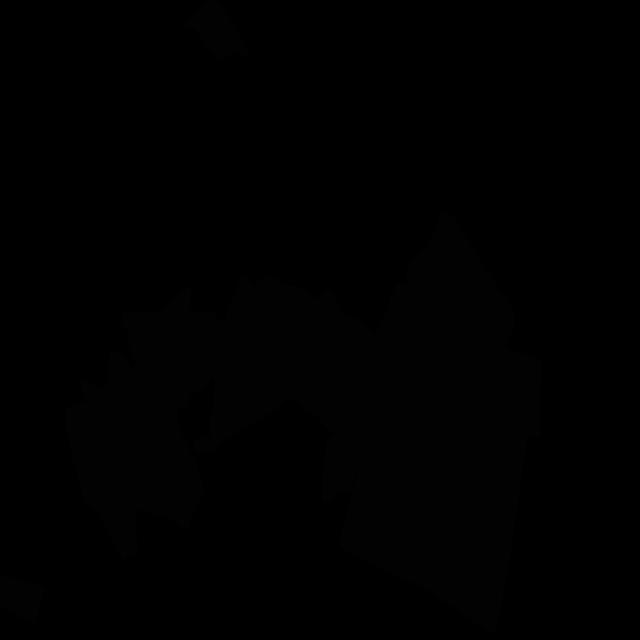cardboard: (339, 210, 542, 633), (65, 287, 258, 560), (193, 276, 404, 503), (182, 0, 251, 64), (0, 576, 45, 625)
